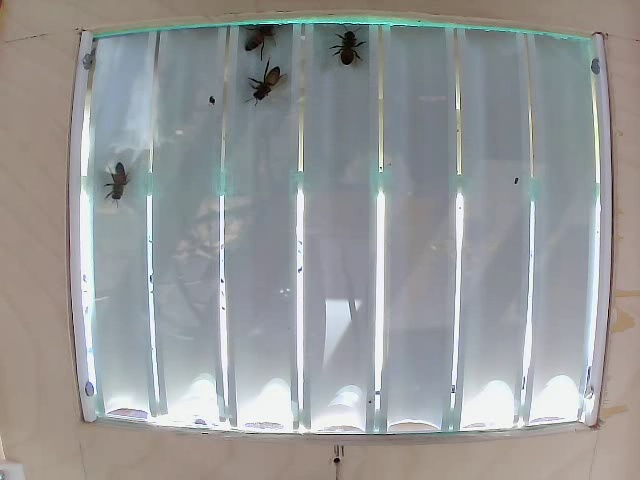bee: (242, 50, 288, 100), (112, 152, 146, 212), (339, 22, 361, 75)
